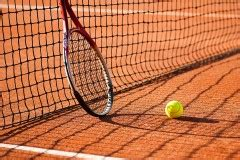tennis_ball: (165, 100, 183, 119)
